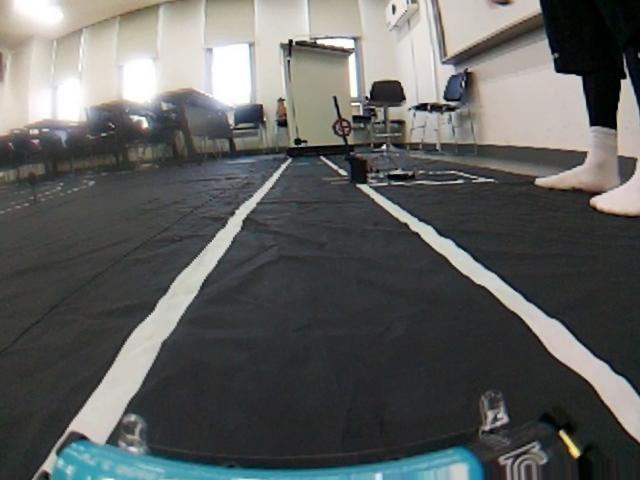sign_stop: (331, 117, 353, 140)
straight: (3, 187, 640, 480)
